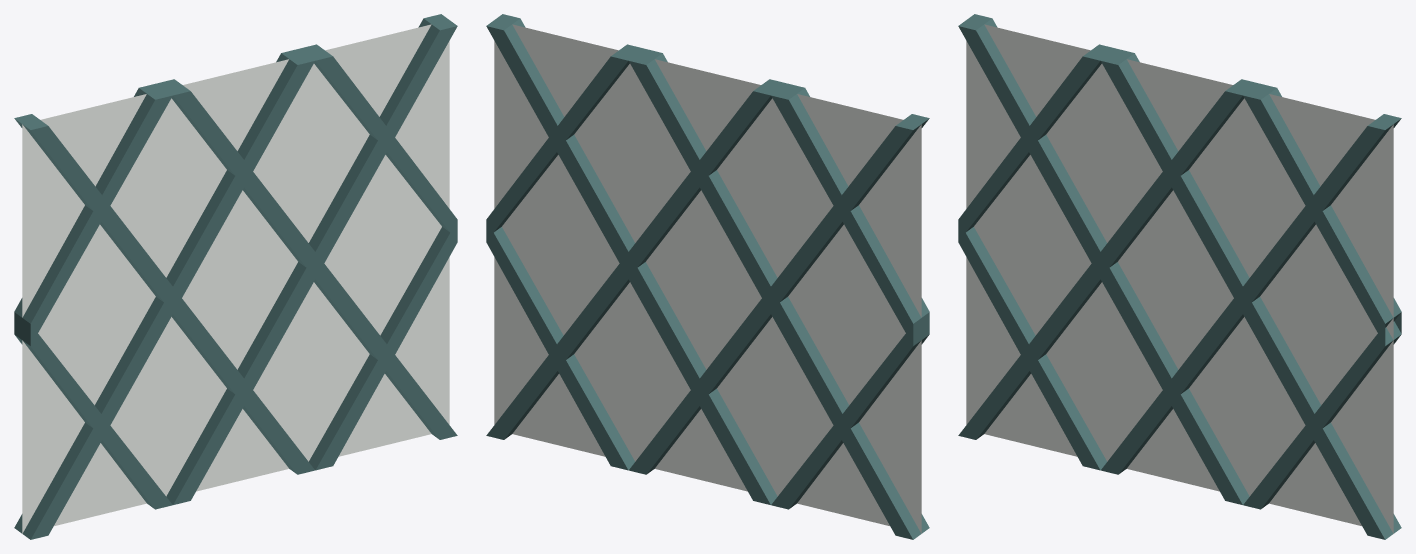
The model's file is fantasy_window_2.fbx.
3 views of the same model, side by side, from view 1: azimuth 30°, elevation 25°; view 2: azimuth 150°, elevation 25°; view 3: azimuth 330°, elevation 25° (orthographic).
Visible parts, largest first — view 1: Cylinder.014; view 2: Cylinder.014; view 3: Cylinder.014.
Boxes of the visible parts, x1,y1,x2,y2 form: Cylinder.014: [14, 14, 457, 539]; Cylinder.014: [486, 14, 929, 539]; Cylinder.014: [958, 14, 1401, 539].
Bounding box in the file's own units: 120 × 110 × 8.
